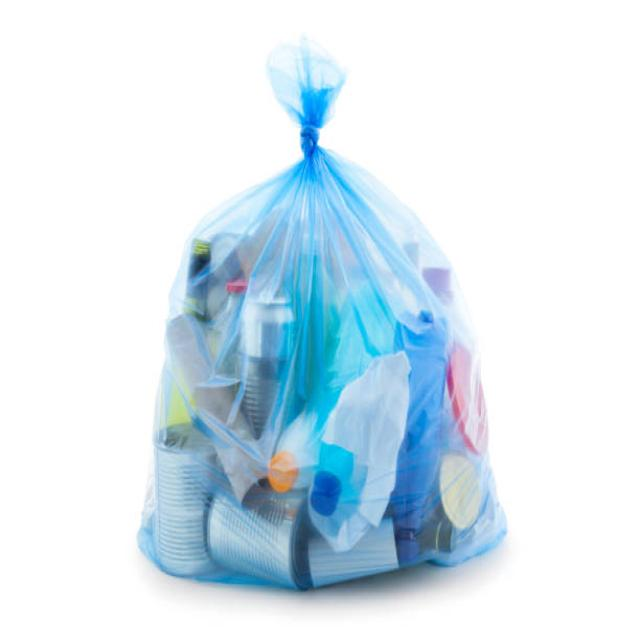trash: (91, 32, 544, 571)
